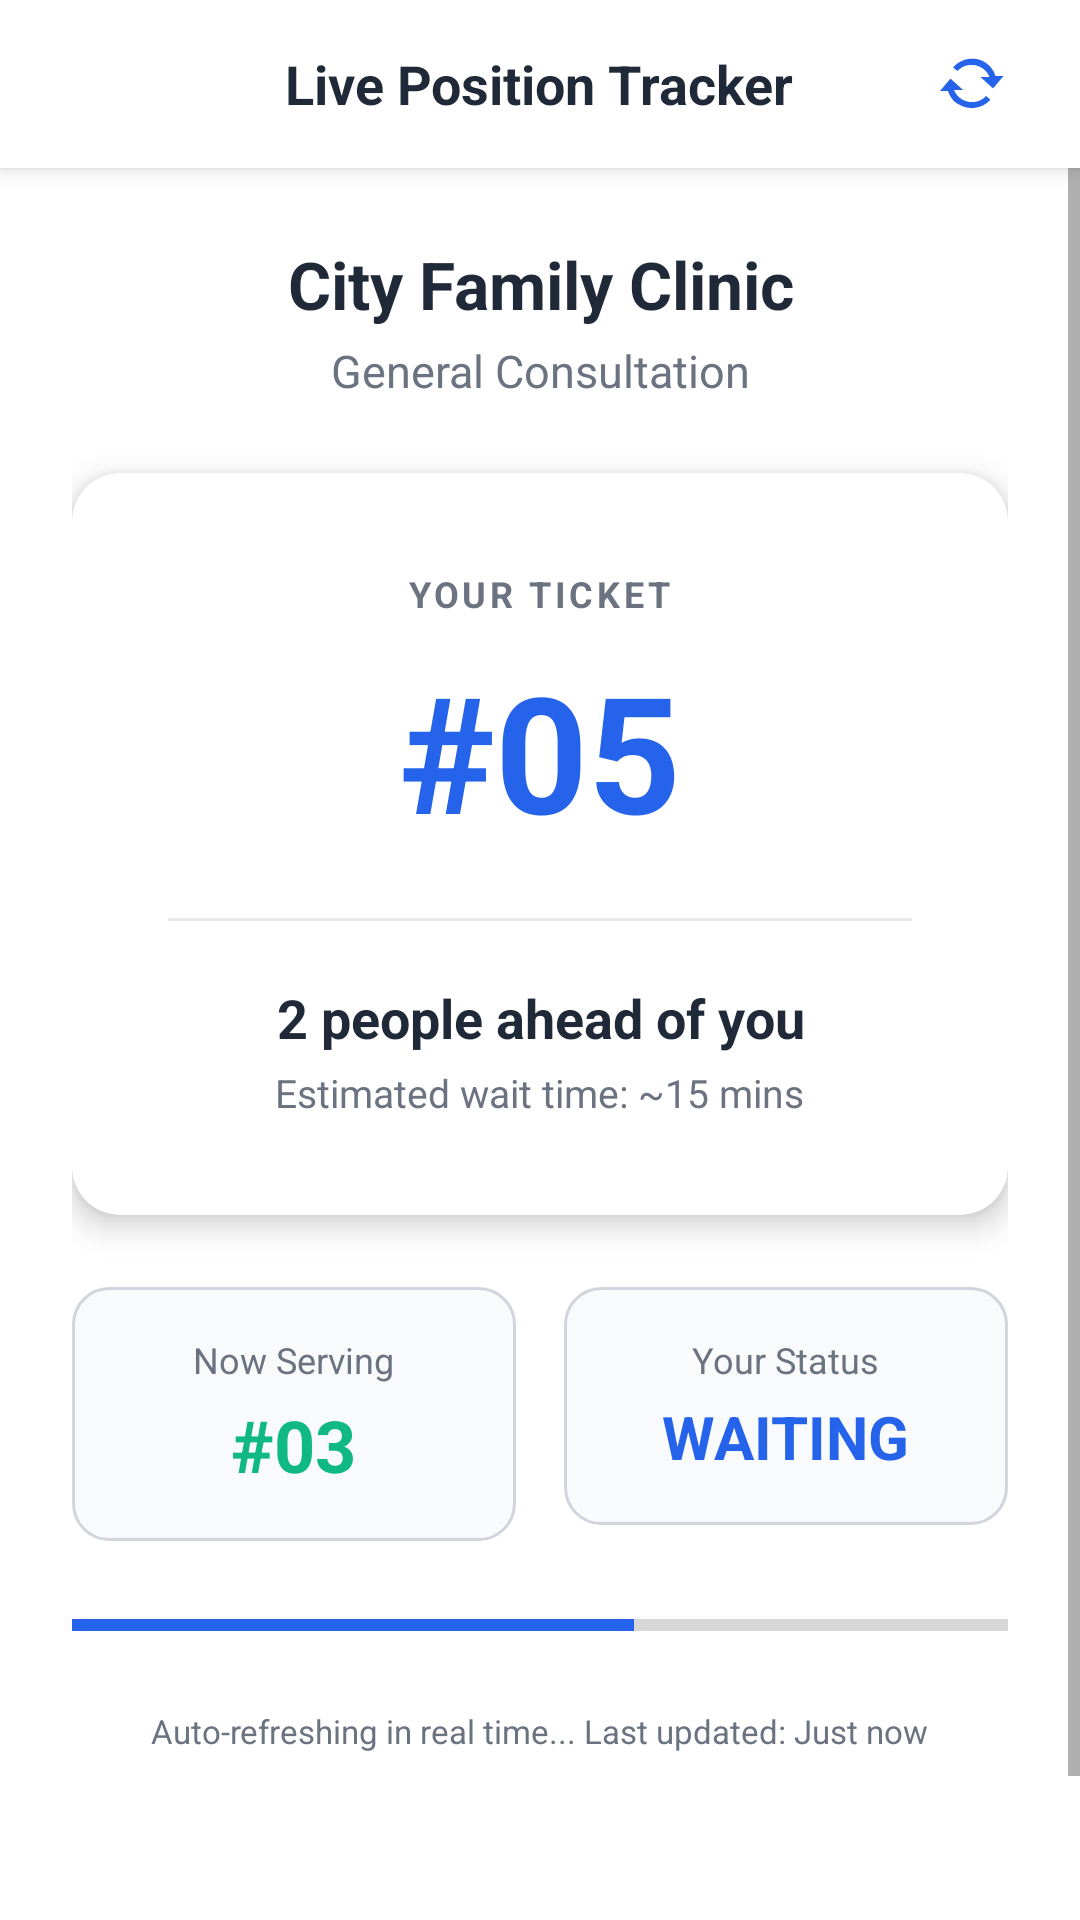

Screen size 1080px x 1920px. Icon name, then its center in pixels as point (x, y):
Refresh: point (972, 83)
